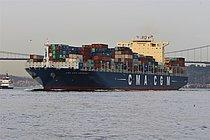Ship: (25, 36, 192, 93)
